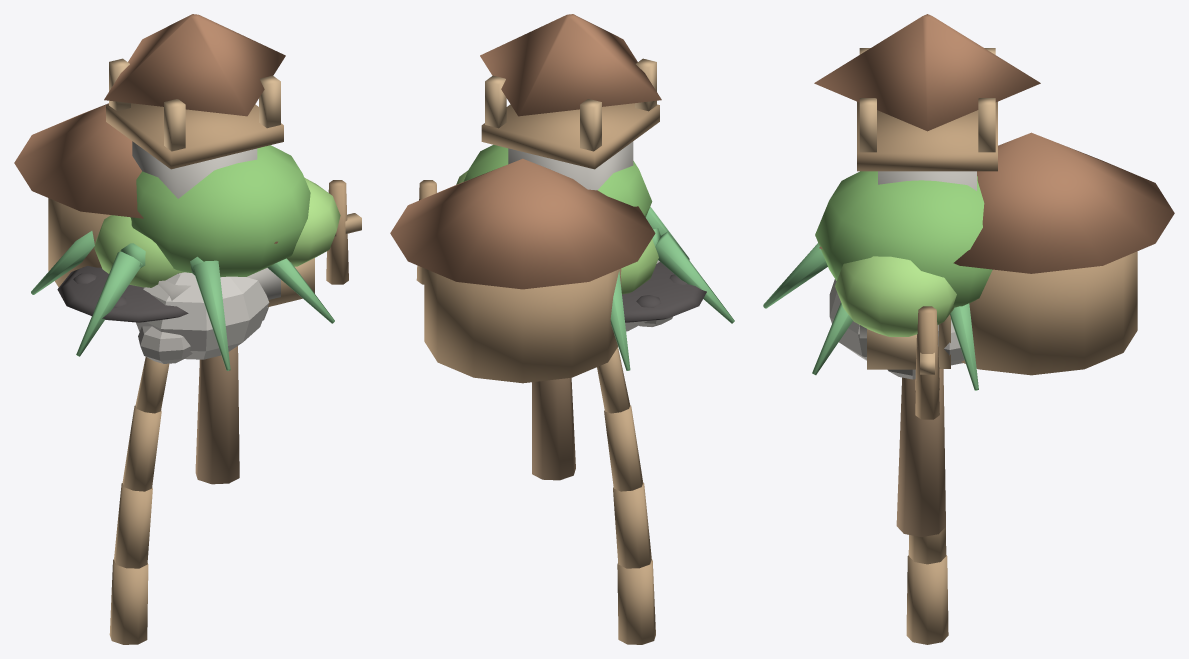
File: props3d.glb
3 views of the same model, side by side, from view 1: azimuth 30°, elevation 25°; view 2: azimuth 150°, elevation 25°; view 3: azimuth 270°, elevation 25° (orthographic). The views are drawn at different scales.
Visible parts, largest first — view 1: tree, b_tower, palm, b_hut, ore, tar, b_wall, b_storage; view 2: b_hut, b_tower, palm, tree, tar; view 3: b_hut, tree, b_tower, palm, b_wall, b_storage, ore.
Boxes of the visible parts, bbox=[...] form: tree: bbox=[94, 145, 340, 484]; b_tower: bbox=[104, 14, 285, 300]; palm: bbox=[31, 231, 334, 644]; b_hut: bbox=[14, 103, 143, 287]; ore: bbox=[136, 272, 269, 363]; tar: bbox=[57, 265, 188, 322]; b_wall: bbox=[326, 180, 361, 284]; b_storage: bbox=[268, 241, 314, 306]; b_hut: bbox=[390, 158, 655, 383]; b_tower: bbox=[480, 14, 661, 190]; palm: bbox=[597, 207, 734, 644]; tree: bbox=[456, 144, 658, 480]; tar: bbox=[622, 262, 706, 322]; b_hut: bbox=[938, 132, 1174, 375]; tree: bbox=[815, 171, 992, 537]; b_tower: bbox=[814, 14, 1040, 338]; palm: bbox=[763, 243, 978, 644]; b_wall: bbox=[915, 306, 939, 419]; b_storage: bbox=[819, 246, 916, 369]; ore: bbox=[829, 279, 915, 379].
Size of the model in its own units: 3.07 by 5.85 by 3.33.
